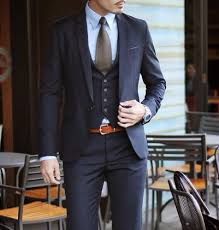F_M_suit jacket: (39, 7, 173, 162)
F_belt: (79, 121, 129, 137)
F_dress pants: (62, 148, 147, 230)
F_tie: (94, 24, 115, 74)
